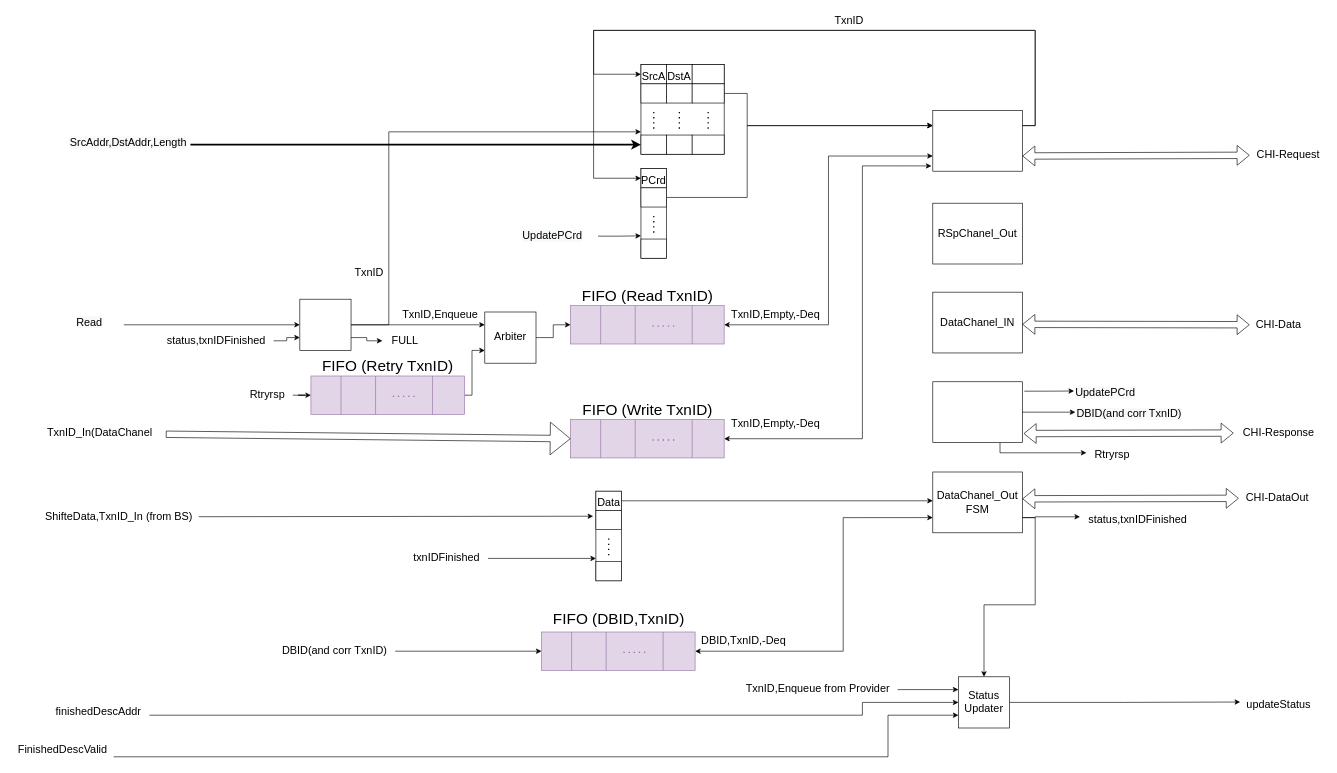
The diagram is 1337 pixels wide and 773 high, and some of its shapes have lost their labels. Here are the shapes that lost their labels. From the top down, the box of each, then its label:
(692, 64, 724, 84): length
(932, 110, 1022, 171): ReqChanel FSM
(299, 299, 351, 350): TxnID Provider
(932, 381, 1022, 443): RSpChanel_IN FSM
